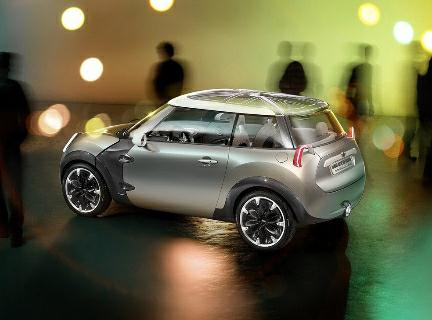MINI-ROCKETMAN: (46, 85, 379, 243)
